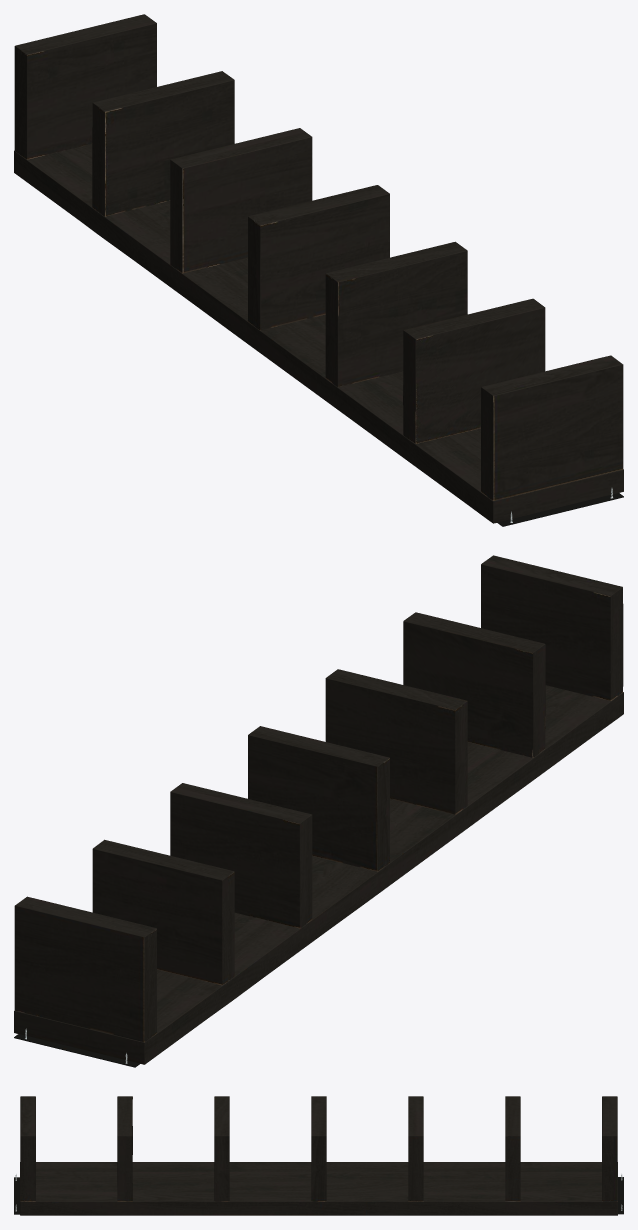
Rendered from LACK_80430591.glb.
3 views of the same model, one above another, from view 1: azimuth 30°, elevation 25°; view 2: azimuth 150°, elevation 25°; view 3: azimuth 270°, elevation 25° (orthographic). The views are drawn at different scales.
Parts seen in each view (by area): view 1: 80430591-LACK001; view 2: 80430591-LACK001; view 3: 80430591-LACK001.
Boxes of the visible parts, x1,y1,x2,y2 form: 80430591-LACK001: (14,14,623,526); 80430591-LACK001: (14,555,623,1067); 80430591-LACK001: (14,1096,623,1215).
Bounding box in the file's own units: 0.3002 × 0.2806 × 1.94.
Materials: 1 (1 with a texture image).
